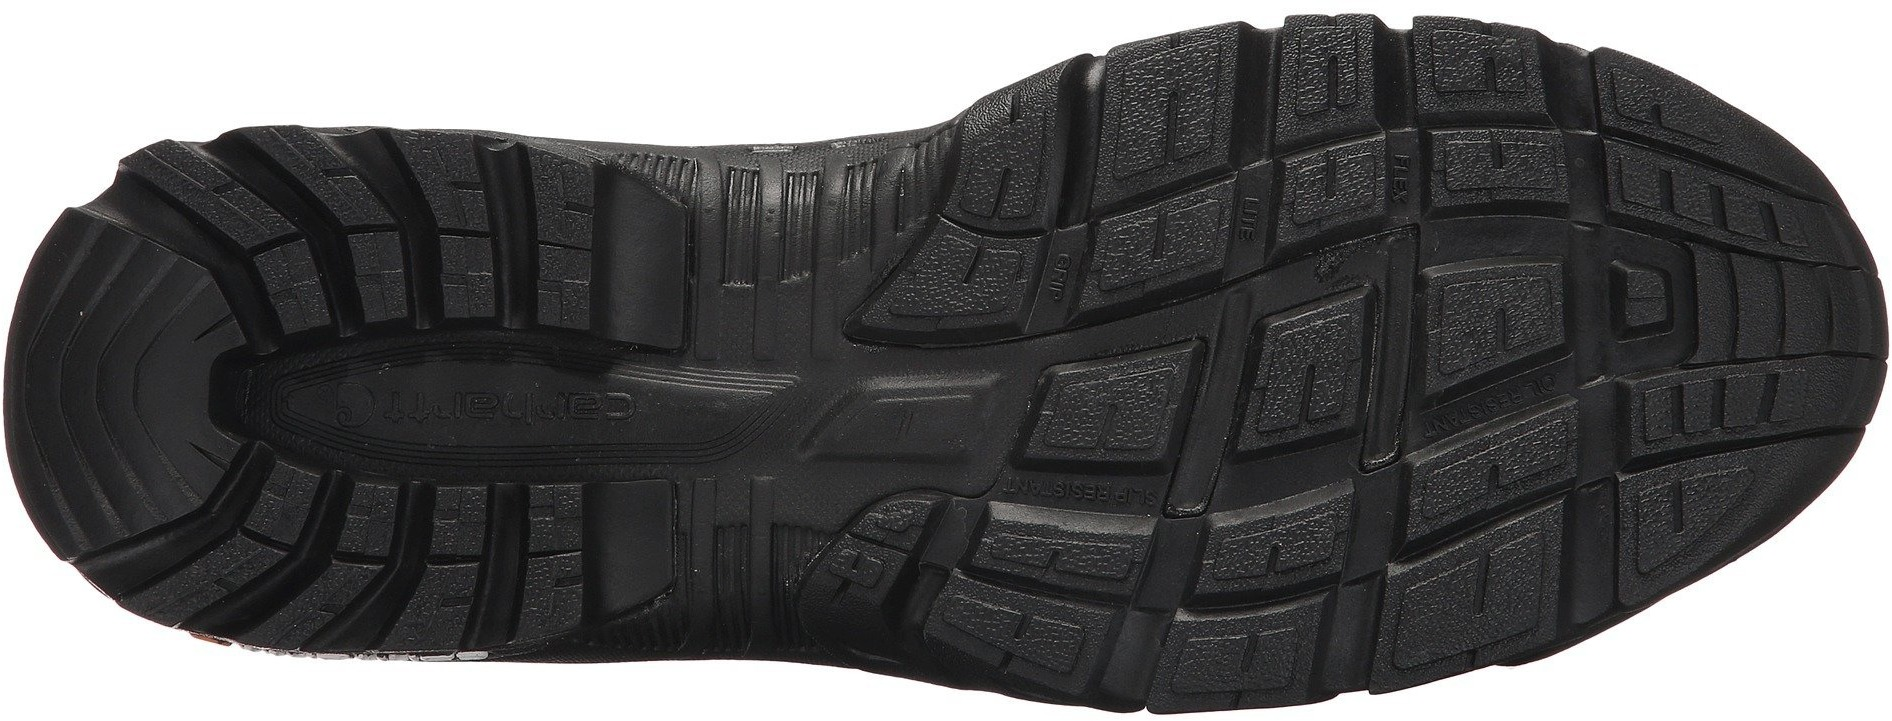chevron: (10, 324, 192, 514)
other: (707, 175, 829, 279)
quad: (1686, 236, 1862, 379)
text: (529, 369, 646, 476), (408, 379, 481, 459)
